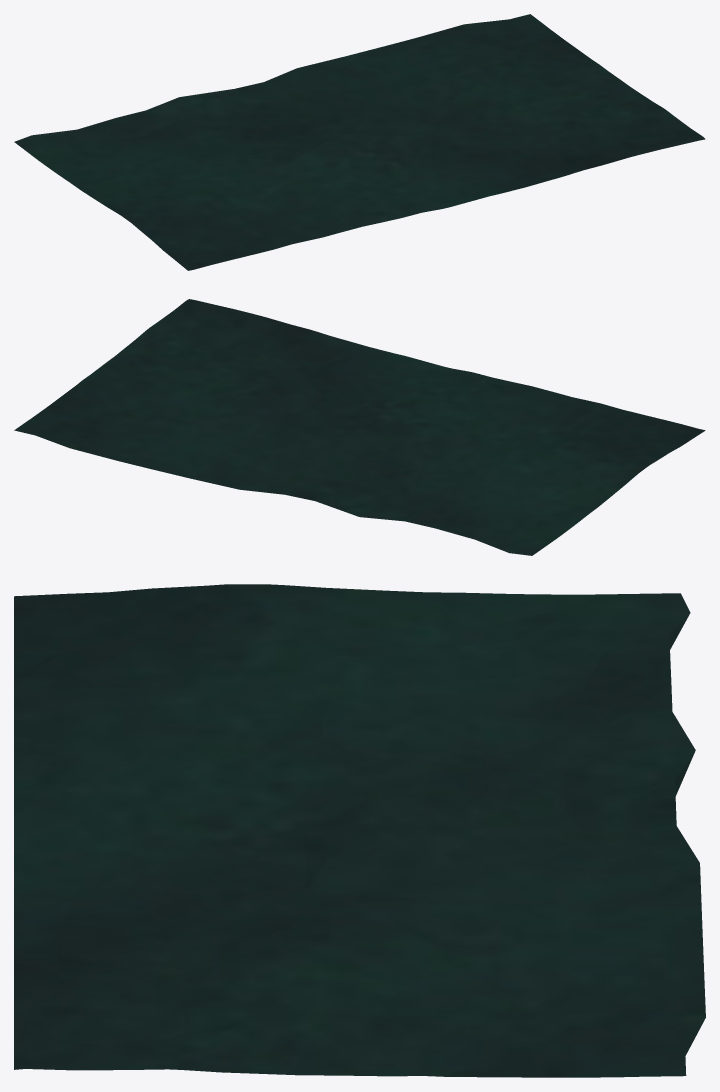
3 views of the same model, one above another, from view 1: azimuth 30°, elevation 25°; view 2: azimuth 150°, elevation 25°; view 3: azimuth 270°, elevation 25° (orthographic). The views are drawn at different scales.
Size of the model in its own units: 52.22 by 0.682 by 31.57.
Materials: 2 (2 with a texture image).
